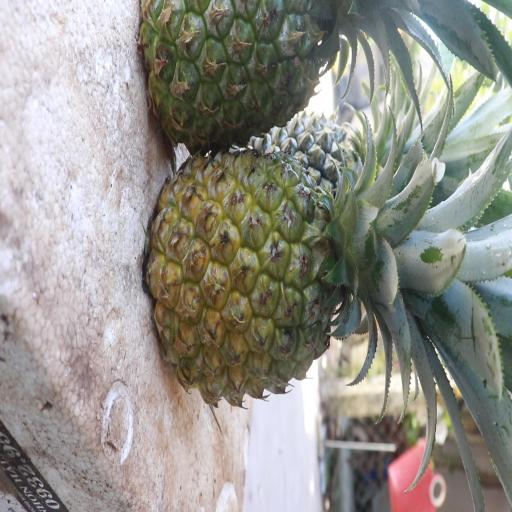------------------------------: (141, 0, 377, 146)
Pineapple - v8 v1: (154, 134, 413, 410)
